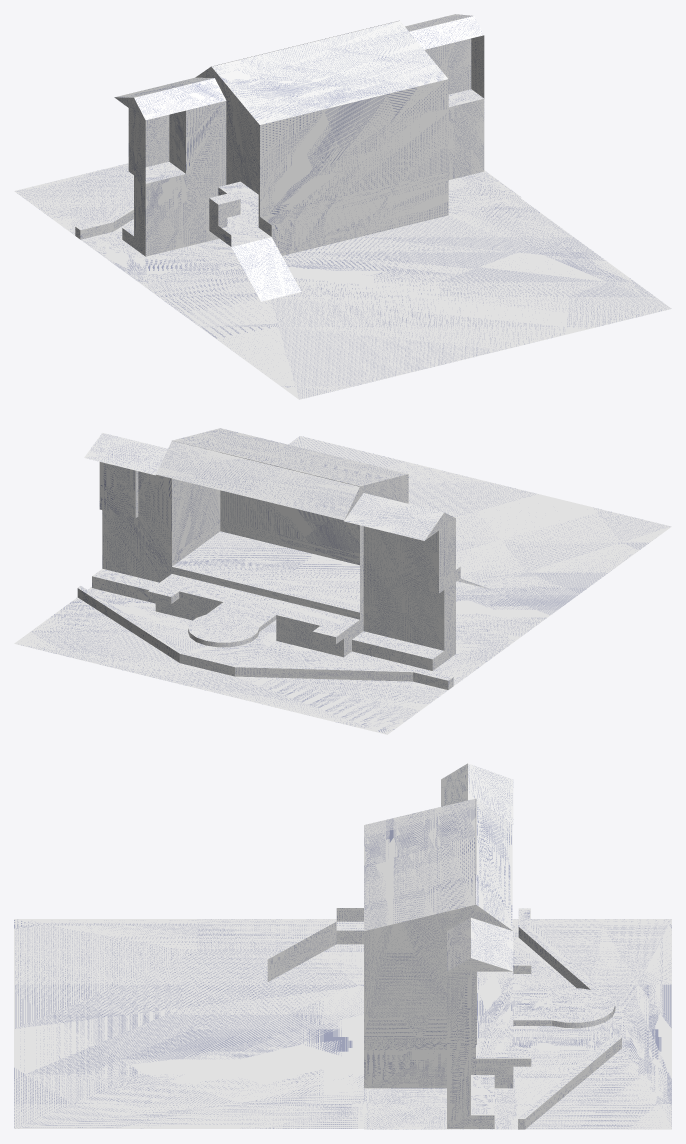
The model's file is stage.dae.
3 renders of one model, top to bottom at view 1: azimuth 30°, elevation 25°; view 2: azimuth 150°, elevation 25°; view 3: azimuth 270°, elevation 25°, orthographic. The views are drawn at different scales.
Parts seen in each view (by area): view 1: SketchUp; view 2: SketchUp; view 3: SketchUp.
Boxes of the visible parts, x1,y1,x2,y2 form: SketchUp: (14, 14, 671, 399); SketchUp: (14, 428, 671, 734); SketchUp: (14, 763, 671, 1129).
Bounding box in the file's own units: 41.66 × 55 × 16.95.
